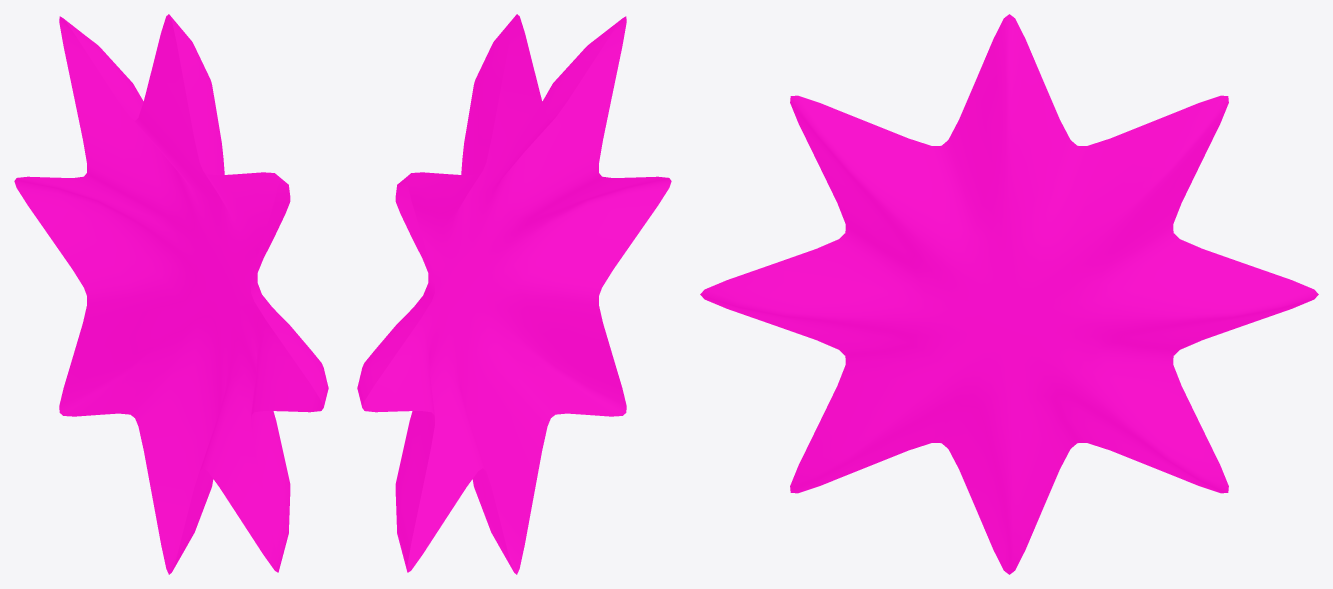
Rendered from portfolio-boton.glb.
The picture shows the model from 3 angles, left to right: view 1: azimuth 30°, elevation 25°; view 2: azimuth 150°, elevation 25°; view 3: azimuth 270°, elevation 25°; orthographic projection.
Visible parts, largest first — view 1: estrella_boton; view 2: estrella_boton; view 3: estrella_boton.
Boxes of the visible parts, bbox=[...] form: estrella_boton: bbox=[14, 14, 328, 574]; estrella_boton: bbox=[357, 14, 671, 574]; estrella_boton: bbox=[700, 14, 1318, 574].
Bounding box in the file's own units: 0.00379 × 0.0373 × 0.0373.
